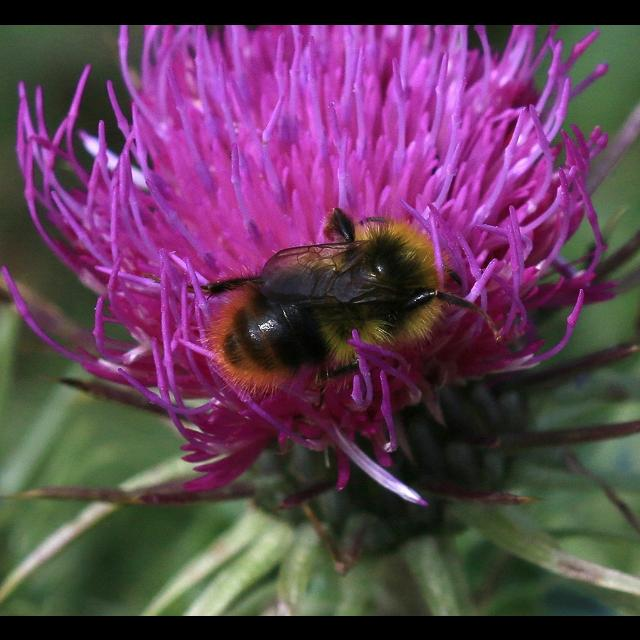Flower: (136, 120, 566, 554)
